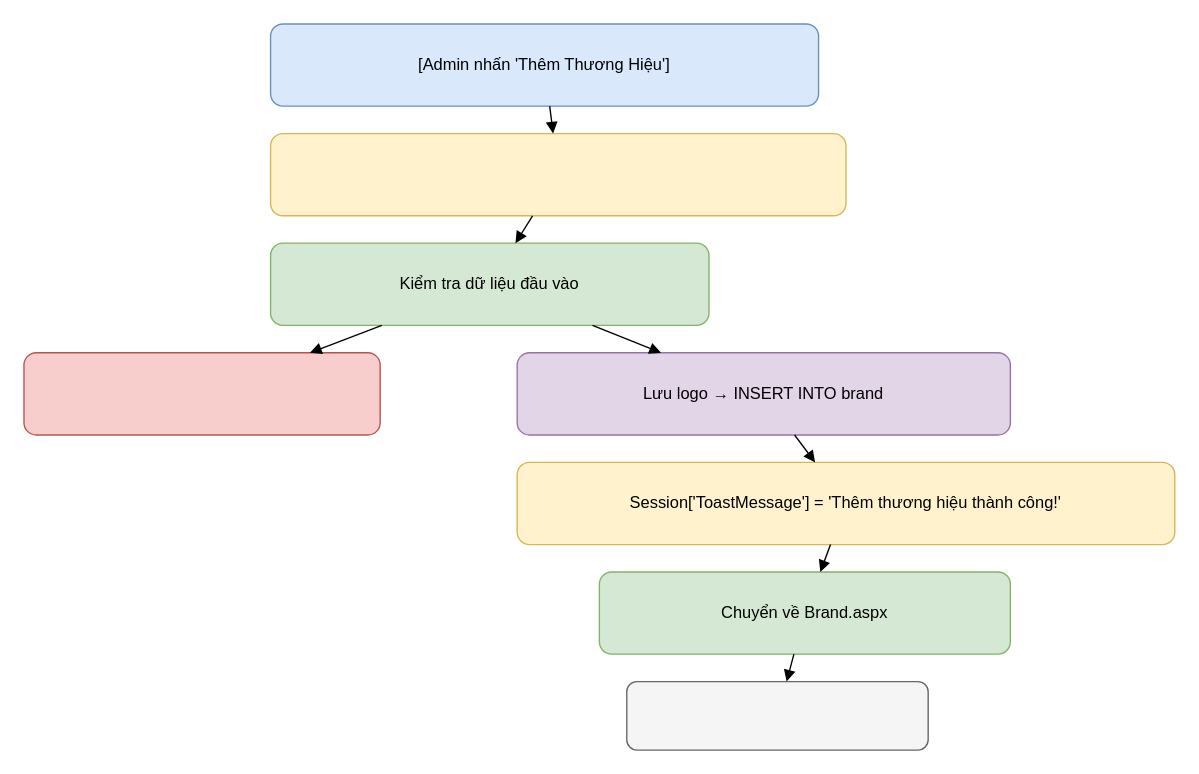
Some shapes in this 1199 by 774 pixel diagram are drawn without their labels. The centre of each missing label's shape, as x and y in pixels:
[Kết thúc luồng]: (776,715)
Nhập thông tin → Upload Logo → Nhấn Lưu: (557,174)
Nếu thiếu tên → Báo lỗi: (201,393)
